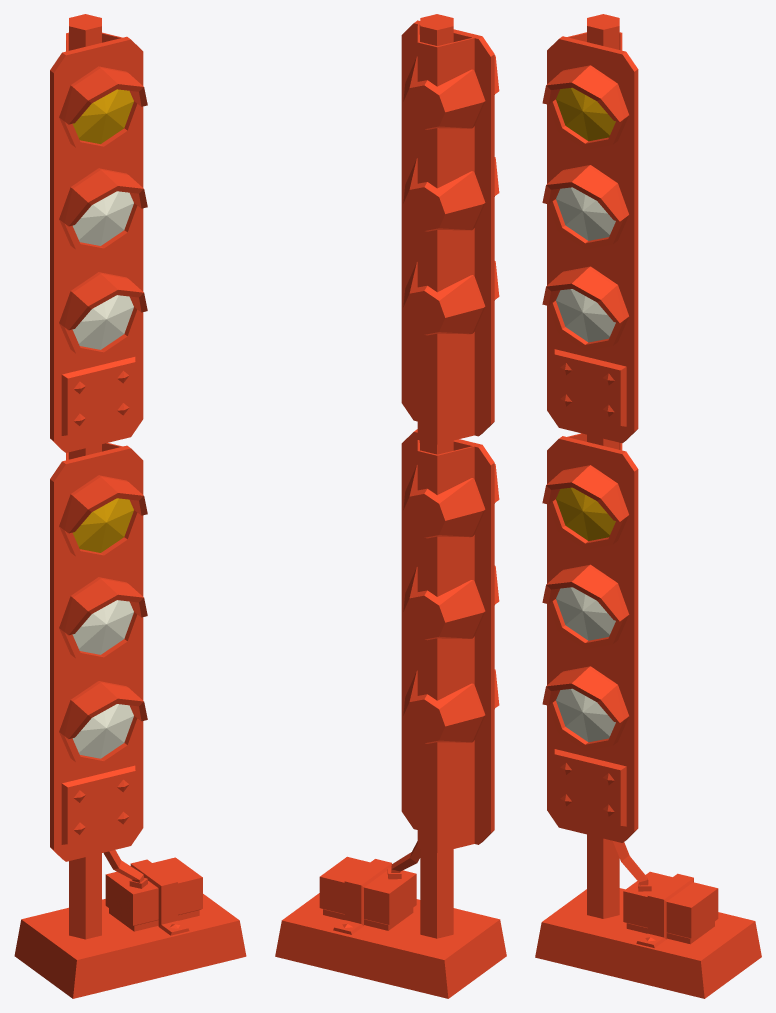
Rendered from SM_Rails_Light_B_City.fbx.
3 renders of one model, left to right at view 1: azimuth 30°, elevation 25°; view 2: azimuth 150°, elevation 25°; view 3: azimuth 330°, elevation 25°, orthographic. The views are drawn at different scales.
Visible parts, largest first — view 1: SM_Rails_Light_B_City; view 2: SM_Rails_Light_B_City; view 3: SM_Rails_Light_B_City.
Boxes of the visible parts, bbox=[...] form: SM_Rails_Light_B_City: bbox=[14, 14, 246, 998]; SM_Rails_Light_B_City: bbox=[275, 14, 506, 998]; SM_Rails_Light_B_City: bbox=[535, 14, 761, 998].
Size of the model in its own units: 0.5885 by 3 by 0.3589.
